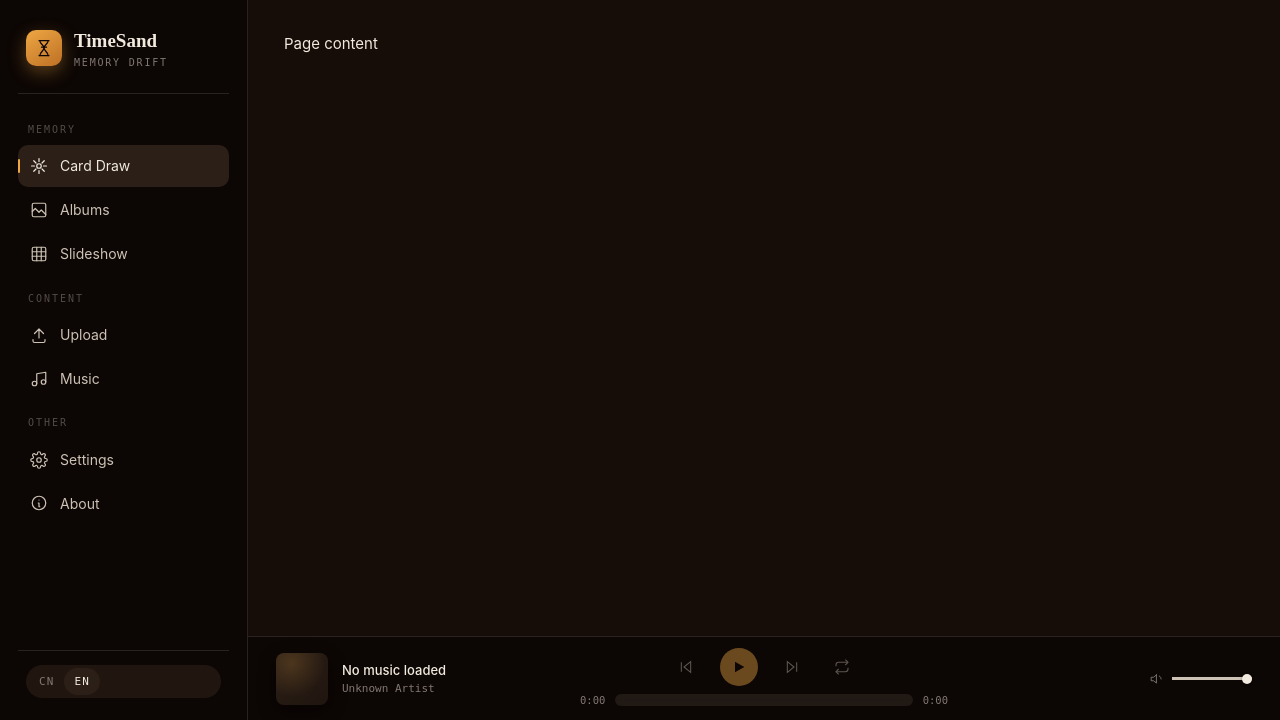
Test: defaultLayout shell › toggles locale with segmented controls and persists the selection
What coordinates should you click on to do the following:
click the button with test id "locale-zh-CN"
I would click on:
 (47, 682)
Its box is top-left (29, 668), bottom-right (64, 695).
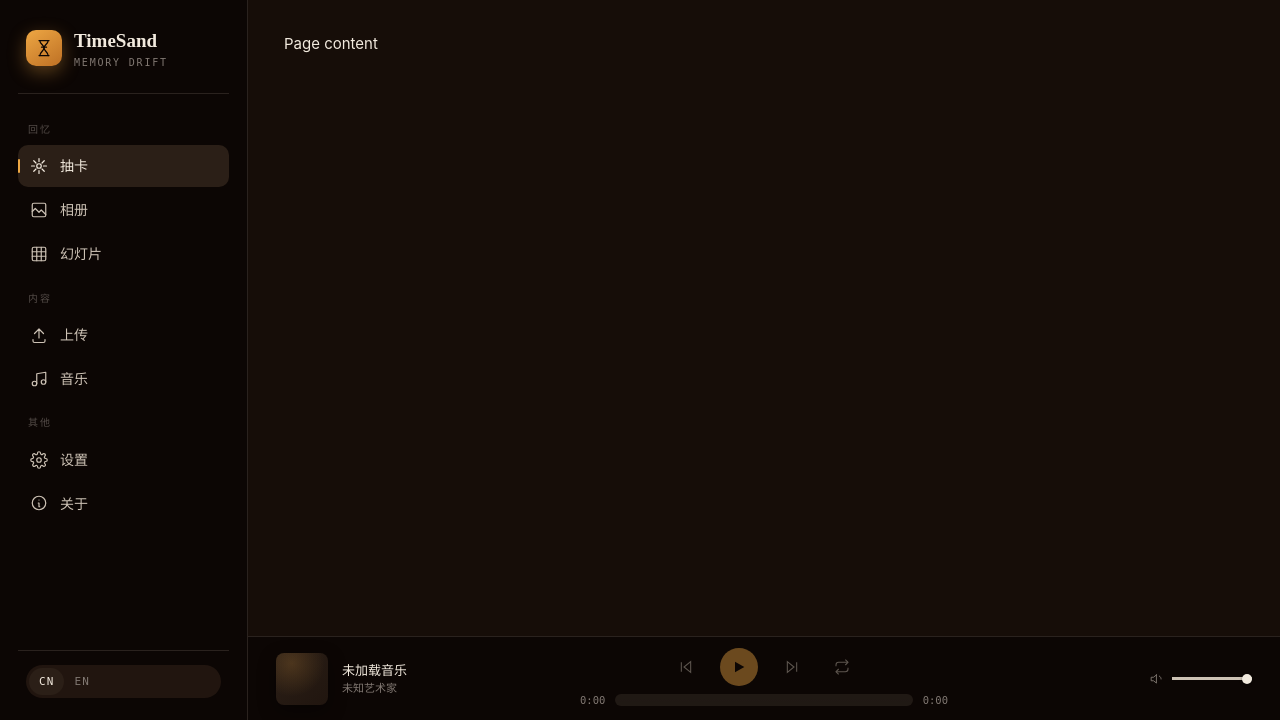
Expected: the text "抽卡" is shown, top-left (60, 155), bottom-right (88, 177)
